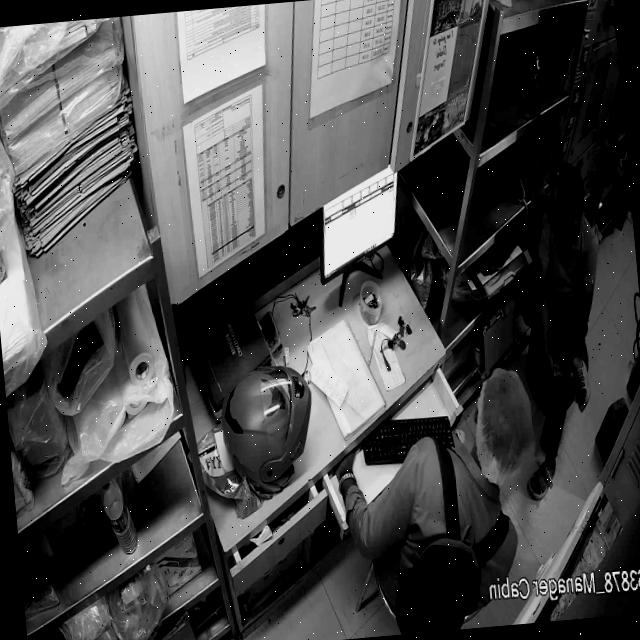helmet: (221, 366, 312, 497)
